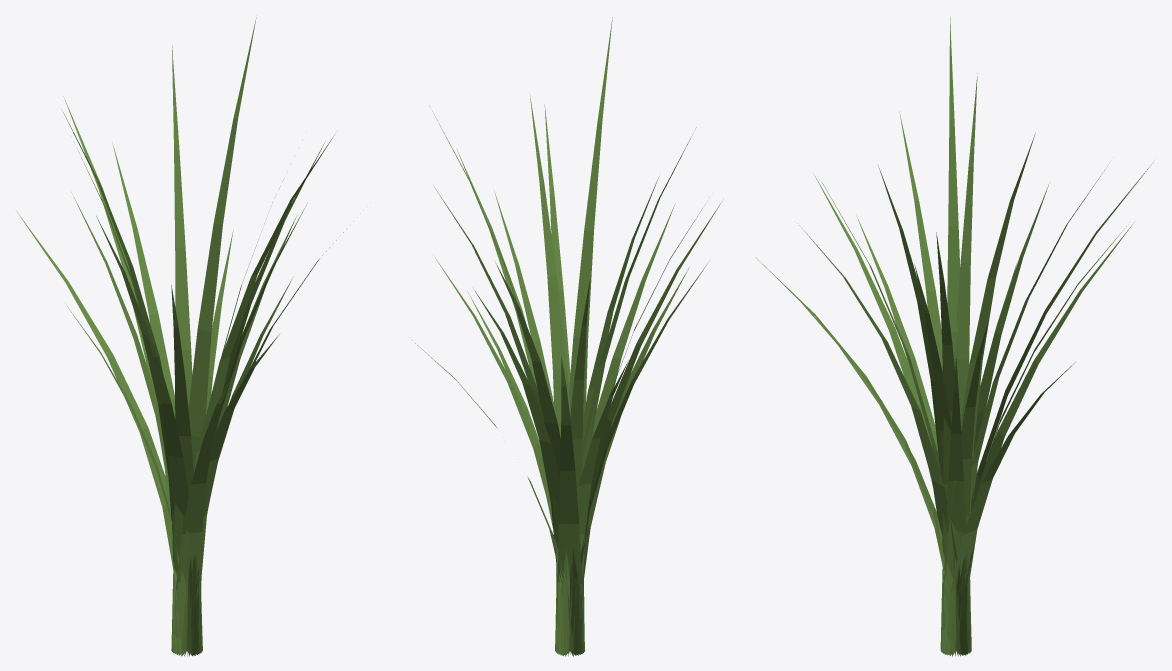
The model's file is sansevieria-trifasciata-hahnii.glb.
3 views of the same model, side by side, from view 1: azimuth 30°, elevation 25°; view 2: azimuth 150°, elevation 25°; view 3: azimuth 270°, elevation 25° (orthographic). The views are drawn at different scales.
Visible parts, largest first — view 1: Zephyr lily strap leaves; view 2: Zephyr lily strap leaves; view 3: Zephyr lily strap leaves.
Part boxes in pixels (left/top/right/bottom): Zephyr lily strap leaves: left=16, top=18, right=353, bottom=656; Zephyr lily strap leaves: left=412, top=17, right=721, bottom=656; Zephyr lily strap leaves: left=755, top=17, right=1153, bottom=656.
Bounding box in the file's own units: 0.1333 × 0.2835 × 0.1811.
